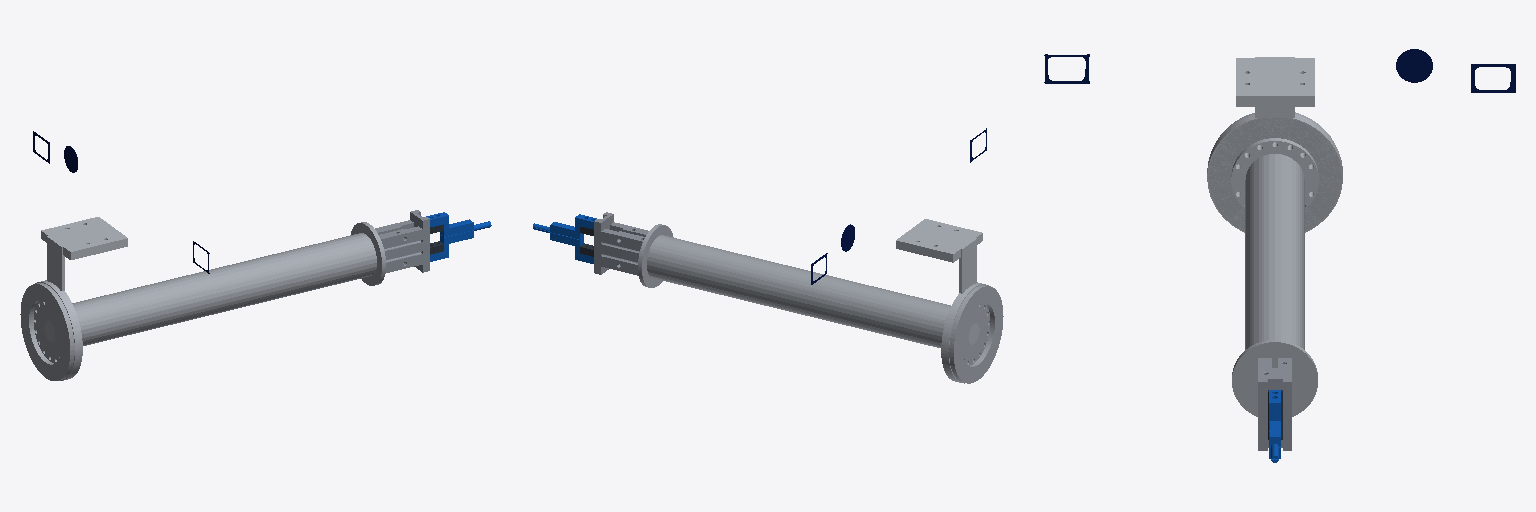
robot.urdf — m20_35_18d:
<?xml version="1.0" ?>
<!-- =================================================================================== -->
<!-- |    This document was autogenerated by xacro from /tmp/m20_35_18d.xacro          | -->
<!-- |    EDITING THIS FILE BY HAND IS NOT RECOMMENDED                                 | -->
<!-- =================================================================================== -->
<robot name="m20_35_18d">
  <link name="world"/>
  <link name="ee_link"/>
  <!-- links -->
  <link name="base_link">
    <visual>
      <origin rpy="0 0 0" xyz="0 0 0"/>
      <geometry>
        <mesh filename="../meshes/visual/base.dae"/>
      </geometry>
    </visual>
    <collision>
      <origin rpy="0 0 0" xyz="0 0 0"/>
      <geometry>
        <mesh filename="../meshes/collision/base.stl"/>
      </geometry>
    </collision>
    <inertial>
      <mass value=" 45.6"/>
      <origin xyz="-.0767  .00288  .109"/>
      <inertia ixx=" .494" ixy=" .0289" ixz=" .0136" iyy=" 1.09" iyz=" .0000534" izz=" 1.15"/>
    </inertial>
  </link>
  <link name="J1_link">
    <visual>
      <origin rpy="0 0 0" xyz="0 0 0"/>
      <geometry>
        <mesh filename="../meshes/visual/j1.dae"/>
      </geometry>
    </visual>
    <collision>
      <origin rpy="0 0 0" xyz="0 0 0"/>
      <geometry>
        <mesh filename="../meshes/collision/j1.stl"/>
      </geometry>
    </collision>
    <inertial>
      <mass value=" 62.5"/>
      <origin xyz=" .0158 -.0106 -.0831"/>
      <inertia ixx=" 1.34" ixy=" .132" ixz="-.0414" iyy=" 1.1" iyz="-.107" izz=" 1.29"/>
    </inertial>
  </link>
  <link name="J2_link">
    <visual>
      <origin rpy="0 0 0" xyz="0 0 0"/>
      <geometry>
        <mesh filename="../meshes/visual/j2.dae"/>
      </geometry>
    </visual>
    <collision>
      <origin rpy="0 0 0" xyz="0 0 0"/>
      <geometry>
        <mesh filename="../meshes/collision/j2.stl"/>
      </geometry>
    </collision>
    <inertial>
      <mass value=" 65.4"/>
      <origin xyz="-.0343 -.172  .38"/>
      <inertia ixx=" 4.83" ixy="-.0804" ixz=" .045" iyy=" 4.96" iyz="-.117" izz=" .533"/>
    </inertial>
  </link>
  <link name="J3_link">
    <visual>
      <origin rpy="0 0 0" xyz="0 0 0"/>
      <geometry>
        <mesh filename="../meshes/visual/j3.dae"/>
      </geometry>
    </visual>
    <collision>
      <origin rpy="0 0 0" xyz="0 0 0"/>
      <geometry>
        <mesh filename="../meshes/collision/j3.stl"/>
      </geometry>
    </collision>
    <inertial>
      <mass value=" 53.9"/>
      <origin xyz=" .135  .0118  .102"/>
      <inertia ixx=" .941" ixy="-.0872" ixz="-.293" iyy=" 1.14" iyz="-.0316" izz=" 1.1"/>
    </inertial>
  </link>
  <link name="J4_link">
    <visual>
      <origin rpy="0 0 0" xyz="0 0 0"/>
      <geometry>
        <mesh filename="../meshes/visual/j4.dae"/>
      </geometry>
    </visual>
    <collision>
      <origin rpy="0 0 0" xyz="0 0 0"/>
      <geometry>
        <mesh filename="../meshes/collision/j4.stl"/>
      </geometry>
    </collision>
    <inertial>
      <mass value=" 20.1"/>
      <origin xyz=" .585 -.0483 -.00034"/>
      <inertia ixx=" .0761" ixy=" .0523" ixz="-.001" iyy=" .645" iyz="-.0000207" izz=" .655"/>
    </inertial>
  </link>
  <link name="J5_link">
    <visual>
      <origin rpy="0 0 0" xyz="0 0 0"/>
      <geometry>
        <mesh filename="../meshes/visual/j5.dae"/>
      </geometry>
    </visual>
    <collision>
      <origin rpy="0 0 0" xyz="0 0 0"/>
      <geometry>
        <mesh filename="../meshes/collision/j5.stl"/>
      </geometry>
    </collision>
    <inertial>
      <mass value=" 1.97"/>
      <origin xyz=" .0276 -.0121  .000000522"/>
      <inertia ixx=" .00392" ixy="-.000781" ixz=" .0000000337" iyy=" .0046" iyz=" .00000000331" izz=" .00408"/>
    </inertial>
  </link>
  <link name="J6_link">
    <visual>
      <origin rpy="0 0 0" xyz="0 0 0"/>
      <geometry>
        <mesh filename="../meshes/visual/j6.dae"/>
      </geometry>
    </visual>
    <collision>
      <origin rpy="0 0 0" xyz="0 0 0"/>
      <geometry>
        <mesh filename="../meshes/collision/j6.stl"/>
      </geometry>
    </collision>
    <inertial>
      <mass value=" .555"/>
      <origin xyz=" .0581 -.000000509  .000000147"/>
      <inertia ixx=" .000582" ixy="-.00000000699" ixz=" .00000000189" iyy=" .000431" iyz=" .0000000226" izz=" .00043"/>
    </inertial>
  </link>
  <!-- Attach to parent -->
  <joint name="base_joint" type="fixed">
    <origin rpy="0 0 0" xyz="0 0 0"/>
    <parent link="world"/>
    <child link="base_link"/>
  </joint>
  <!-- joints -->
  <joint name="J1" type="revolute">
    <origin rpy="0 0 0" xyz=" 0  0  .425"/>
    <parent link="base_link"/>
    <child link="J1_link"/>
    <axis xyz=" 0  0  1"/>
    <limit effort="7000" lower="-2.9670597283903604" upper="2.9670597283903604" velocity="3.141592653589793"/>
  </joint>
  <joint name="J2" type="revolute">
    <origin rpy="0 0 0" xyz=" .075  0  0"/>
    <parent link="J1_link"/>
    <child link="J2_link"/>
    <axis xyz=" 0  1  0"/>
    <limit effort="9000" lower="-1.7453292519943295" upper="2.792526803190927" velocity="3.141592653589793"/>
  </joint>
  <joint name="J3" type="revolute">
    <origin rpy="0 0 0" xyz=" 0  0  .84"/>
    <parent link="J2_link"/>
    <child link="J3_link"/>
    <axis xyz=" 0 -1  0"/>
    <limit effort="4000" lower="-1.5707963267948966" upper="3.839724354387525" velocity="3.490658503988659"/>
  </joint>
  <joint name="J4" type="revolute">
    <origin rpy="0 0 0" xyz=" 0  0  .215"/>
    <parent link="J3_link"/>
    <child link="J4_link"/>
    <axis xyz="-1  0  0"/>
    <limit effort="600" lower="-3.490658503988659" upper="3.490658503988659" velocity="6.1086523819801535"/>
  </joint>
  <joint name="J5" type="revolute">
    <origin rpy="0 0 0" xyz=" .89  0  0"/>
    <parent link="J4_link"/>
    <child link="J5_link"/>
    <axis xyz=" 0 -1  0"/>
    <limit effort="500" lower="-3.141575200297273" upper="3.141575200297273" velocity="6.1086523819801535"/>
  </joint>
  <joint name="J6" type="revolute">
    <origin rpy="0 0 0" xyz=" 0  0  0"/>
    <parent link="J5_link"/>
    <child link="J6_link"/>
    <axis xyz="-1  0  0"/>
    <limit effort="300" lower="-7.853981633974483" upper="7.853981633974483" velocity="6.981317007977318"/>
  </joint>
  <!-- world coords -->
  <link name="wbase"/>
  <joint name="base_link-wbase" type="fixed">
    <origin rpy="0 0 0" xyz=" 0  0  .425"/>
    <parent link="base_link"/>
    <child link="wbase"/>
  </joint>
  <!-- flange coords -->
  <link name="flange"/>
  <joint name="J6-flange" type="fixed">
    <origin rpy="0 0 0" xyz=" .09  0  0"/>
    <parent link="J6_link"/>
    <child link="flange"/>
  </joint>
  <!-- FANUC flange coords -->
  <link name="fanuc_flange"/>
  <joint name="flange-fanuc_flange" type="fixed">
    <origin rpy="3.141592653589793 -1.5707963267948966 0.0" xyz="0 0 0"/>
    <parent link="flange"/>
    <child link="fanuc_flange"/>
  </joint>
  <!-- Attach child -->
  <joint name="child_joint" type="fixed">
    <origin rpy="0 0 0" xyz="0 0 0"/>
    <parent link="flange"/>
    <child link="ee_link"/>
  </joint>

  <!-- Extension 300 mm between the M20 flange (fanuc_flange, z = tool direction) and the MHZL2-20D gripper. Mass and inertia are estimates:
       the volume of the mesh x aluminium 2700 kg/m^3. -->
  <link name="m20_extension_link">
    <inertial>
      <origin xyz="8.34975e-06 -3.72757e-06 0.15258" rpy="0 0 0"/>
      <mass value="0.851067"/>
      <inertia ixx="0.00881662" ixy="3.45436e-07" ixz="-1.00531e-06" iyy="0.00882628" iyz="4.48801e-07" izz="0.000653938"/>
    </inertial>
    <visual>
      <origin xyz="0 0 0" rpy="0 0 0"/>
      <geometry><mesh filename="../meshes/collision/extended_adapter_m20id.stl" scale="0.001 0.001 0.001"/></geometry>
      <material name="extension_steel"><color rgba="0.66 0.68 0.71 1"/></material>
    </visual>
    <collision>
      <origin xyz="0 0 0" rpy="0 0 0"/>
      <geometry><mesh filename="../meshes/collision/extended_adapter_m20id.stl" scale="0.001 0.001 0.001"/></geometry>
    </collision>
  </link>
  <joint name="fanuc_flange_to_extension" type="fixed">
    <parent link="fanuc_flange"/>
    <child link="m20_extension_link"/>
    <origin xyz="0 0 0" rpy="0 0 0"/>
  </joint>
  <!-- MHZL2-20D gripper (assets/grippper/mhzl2_20d): its base_link on the end face of the extension (0.400 m) -->
  <joint name="extension_to_mhzl2" type="fixed">
    <parent link="m20_extension_link"/>
    <child link="mhzl2_base_link"/>
    <origin xyz="0 0 0.400" rpy="0 0 0"/>
  </joint>
  <material name="body_gray">
    <color rgba="0.58 0.60 0.64 1" />
  </material>
  <material name="jaw_steel">
    <color rgba="0.22 0.25 0.29 1" />
  </material>
  <material name="finger_blue">
    <color rgba="0.10 0.40 0.75 1" />
  </material>
  <link name="mhzl2_base_link">
    <inertial>
      <origin xyz="2.89671410659e-05 -5.4270840864e-06 0.0349663498318" rpy="0 0 0" />
      <mass value="0.220682701839" />
      <inertia ixx="9.94186732479e-05" iyy="0.000121817669286" izz="5.25931759376e-05" ixy="1.0384273215e-07" ixz="-1.26770280594e-07" iyz="-6.88108477766e-09" />
    </inertial>
    <visual>
      <origin xyz="0 0 0" rpy="0 0 0" />
      <geometry>
        <mesh filename="../../../grippper/mhzl2_20d/meshes/body.stl" scale="1 1 1" />
      </geometry>
      <material name="body_gray" />
    </visual>
    <collision>
      <origin xyz="0 0 0" rpy="0 0 0" />
      <geometry>
        <mesh filename="../../../grippper/mhzl2_20d/meshes/body.stl" scale="1 1 1" />
      </geometry>
    </collision>
  </link>
  <link name="mhzl2_left_jaw_link">
    <inertial>
      <origin xyz="0.000678573706839 4.36690990065e-14 -0.0173863154899" rpy="0 0 0" />
      <mass value="0.0246586490805" />
      <inertia ixx="1.85754703073e-06" iyy="2.18841962239e-06" izz="8.28895609536e-07" ixy="3.52001383044e-17" ixz="1.11213029842e-07" iyz="2.3442984885e-18" />
    </inertial>
    <visual>
      <origin xyz="0 0 0" rpy="0 0 0" />
      <geometry>
        <mesh filename="../../../grippper/mhzl2_20d/meshes/jaw_left.stl" scale="1 1 1" />
      </geometry>
      <material name="jaw_steel" />
    </visual>
    <collision>
      <origin xyz="0 0 0" rpy="0 0 0" />
      <geometry>
        <mesh filename="../../../grippper/mhzl2_20d/meshes/jaw_left.stl" scale="1 1 1" />
      </geometry>
    </collision>
  </link>
  <link name="mhzl2_left_fingertip_link">
    <inertial>
      <origin xyz="0.00205699269931 1.12872986514e-09 0.0123896917199" rpy="0 0 0" />
      <mass value="0.0162883181265" />
      <inertia ixx="5.33803292834e-06" iyy="6.23509452408e-06" izz="1.15197360513e-06" ixy="-1.5233053529e-13" ixz="-1.72149090423e-06" iyz="-7.74891521698e-13" />
    </inertial>
    <visual>
      <origin xyz="0 0 0" rpy="0 0 0" />
      <geometry>
        <mesh filename="../../../grippper/mhzl2_20d/meshes/fingertip_left.stl" scale="1 1 1" />
      </geometry>
      <material name="finger_blue" />
    </visual>
    <collision>
      <origin xyz="0 0 0" rpy="0 0 0" />
      <geometry>
        <mesh filename="../../../grippper/mhzl2_20d/meshes/fingertip_left.stl" scale="1 1 1" />
      </geometry>
    </collision>
  </link>
  <link name="mhzl2_right_jaw_link">
    <inertial>
      <origin xyz="-0.000678573706839 -4.36690990065e-14 -0.0173863154899" rpy="0 0 0" />
      <mass value="0.0246586490805" />
      <inertia ixx="1.85754703073e-06" iyy="2.18841962239e-06" izz="8.28895609536e-07" ixy="3.52001383044e-17" ixz="-1.11213029842e-07" iyz="-2.3442984885e-18" />
    </inertial>
    <visual>
      <origin xyz="0 0 0" rpy="0 0 0" />
      <geometry>
        <mesh filename="../../../grippper/mhzl2_20d/meshes/jaw_right.stl" scale="1 1 1" />
      </geometry>
      <material name="jaw_steel" />
    </visual>
    <collision>
      <origin xyz="0 0 0" rpy="0 0 0" />
      <geometry>
        <mesh filename="../../../grippper/mhzl2_20d/meshes/jaw_right.stl" scale="1 1 1" />
      </geometry>
    </collision>
  </link>
  <link name="mhzl2_right_fingertip_link">
    <inertial>
      <origin xyz="-0.00205699269931 1.12872986523e-09 0.0123896917199" rpy="0 0 0" />
      <mass value="0.0162883181265" />
      <inertia ixx="5.33803292834e-06" iyy="6.23509452408e-06" izz="1.15197360513e-06" ixy="1.52330535281e-13" ixz="1.72149090423e-06" iyz="-7.74891521661e-13" />
    </inertial>
    <visual>
      <origin xyz="0 0 0" rpy="0 0 0" />
      <geometry>
        <mesh filename="../../../grippper/mhzl2_20d/meshes/fingertip_right.stl" scale="1 1 1" />
      </geometry>
      <material name="finger_blue" />
    </visual>
    <collision>
      <origin xyz="0 0 0" rpy="0 0 0" />
      <geometry>
        <mesh filename="../../../grippper/mhzl2_20d/meshes/fingertip_right.stl" scale="1 1 1" />
      </geometry>
    </collision>
  </link>
  <joint name="mhzl2_left_joint" type="prismatic">
    <parent link="mhzl2_base_link" />
    <child link="mhzl2_left_jaw_link" />
    <origin xyz="-0.01215 0 0.09" rpy="0 0 0" />
    <axis xyz="-1 0 0" />
    <limit lower="0" upper="0.009" effort="10" velocity="0.05" />
  </joint>
  <joint name="mhzl2_left_fingertip_fixed" type="fixed">
    <parent link="mhzl2_left_jaw_link" />
    <child link="mhzl2_left_fingertip_link" />
    <origin xyz="0 0 0" rpy="0 0 0" />
  </joint>
  <joint name="mhzl2_right_joint" type="prismatic">
    <parent link="mhzl2_base_link" />
    <child link="mhzl2_right_jaw_link" />
    <origin xyz="0.01215 0 0.09" rpy="0 0 0" />
    <axis xyz="1 0 0" />
    <limit lower="0" upper="0.009" effort="10" velocity="0.05" />
    <mimic joint="mhzl2_left_joint" multiplier="1" offset="0" />
  </joint>
  <joint name="mhzl2_right_fingertip_fixed" type="fixed">
    <parent link="mhzl2_right_jaw_link" />
    <child link="mhzl2_right_fingertip_link" />
    <origin xyz="0 0 0" rpy="0 0 0" />
  </joint>
  <link name="mhzl2_tcp" />
  <joint name="mhzl2_tcp_fixed" type="fixed">
    <parent link="mhzl2_base_link" />
    <child link="mhzl2_tcp" />
    <origin xyz="0 0 0.15" rpy="0 0 0" />
  </joint>
  <!-- PhoXi 3D Scanner M Gen3 on its arm (camera bracket flange_m20id_arm.stl) at the J6 flange, on the OUTER side of the wrist (J6_link: x = tool direction,
       +z = side away from the forearm when the tool points down). Both meshes are in meshes/collision/ (mm).
       Bracket: z = tool direction; its plate lies on the flange face (bracket z -5.5 mm at J6_link x 0.09), the pad (bracket x 96..106, z 0..74) points to
       J6_link +z. Scanner: its mount side face (mesh y 0, 4 x M4 at x +-22.5 / z 0 and -22) is screwed on the outer face of the pad (bracket x 106, holes
       y +-22.5 / z 29.5 and 51.5); the window face (mesh +z) looks along the tool, the long axis lies along J6_link y.
       Link frame = the scanner mesh; the bracket is in it at xyz (0 0.106 -0.0515), rpy (0 0 -90 deg). Mass is an estimate (3 kg).
       Collision = boxes for the scanner (its STL has 420k triangles: housing, boss) + the bracket mesh. -->
  <link name="phoxi_scanner">
    <visual>
      <origin xyz="0 0 0" rpy="0 0 0"/>
      <geometry>
        <mesh filename="../meshes/collision/PhoXi_3D_Scanner-M-Gen3-body.stl" scale="0.001 0.001 0.001"/>
      </geometry>
      <material name="phoxi_body">
        <color rgba="0.025 0.027 0.03 1"/>
      </material>
    </visual>
    <visual>
      <origin xyz="0 0 0" rpy="0 0 0"/>
      <geometry>
        <mesh filename="../meshes/collision/PhoXi_3D_Scanner-M-Gen3-lens.stl" scale="0.001 0.001 0.001"/>
      </geometry>
      <material name="phoxi_lens">
        <color rgba="0.05 0.12 0.34 1"/>
      </material>
    </visual>
    <visual>
      <origin xyz="0 0.106 -0.0515" rpy="0 0 -1.5707963267948966"/>
      <geometry>
        <mesh filename="../meshes/collision/flange_m20id_arm.stl" scale="0.001 0.001 0.001"/>
      </geometry>
      <material name="phoxi_bracket">
        <color rgba="0.70 0.72 0.75 1"/>
      </material>
    </visual>
    <collision>
      <origin xyz="0 -0.03395 0.00985" rpy="0 0 0"/>
      <geometry>
        <box size="0.4388 0.0679 0.0613"/>
      </geometry>
    </collision>
    <collision>
      <origin xyz="0 -0.03395 -0.03265" rpy="0 0 0"/>
      <geometry>
        <box size="0.084 0.0679 0.0237"/>
      </geometry>
    </collision>
    <collision>
      <origin xyz="0 0.106 -0.0515" rpy="0 0 -1.5707963267948966"/>
      <geometry>
        <mesh filename="../meshes/collision/flange_m20id_arm.stl" scale="0.001 0.001 0.001"/>
      </geometry>
    </collision>
    <inertial>
      <origin xyz="0 -0.03395 0.00985" rpy="0 0 0"/>
      <mass value="3.0"/>
      <inertia ixx="0.002092" ixy="0" ixz="0" iyy="0.049080" iyz="0" izz="0.049290"/>
    </inertial>
  </link>
  <joint name="J6_to_phoxi_scanner" type="fixed">
    <parent link="J6_link"/>
    <child link="phoxi_scanner"/>
    <origin xyz="0.147 0 0.106" rpy="-1.5707963267948966 0 -1.5707963267948966"/>
  </joint>
  <!-- Colour camera of the scanner: the round lens glass (mesh x -113.1, y -32.6, z 35.0 mm), as an OpenCV optical frame (x right, y down, z forward = the tool
       direction, flange +x): image right = flange -y, image down = flange -z (with the tool pointing down the robot base is at the bottom of the image, as seen
       from behind the camera). Used by the wrist camera of robot_sim.py (wrist_camera: in the robot yaml). -->
  <link name="phoxi_camera"/>
  <joint name="J6_to_phoxi_camera" type="fixed">
    <parent link="J6_link"/>
    <child link="phoxi_camera"/>
    <origin xyz="0.182 0.1131 0.1386" rpy="-1.5707963267948966 0 -1.5707963267948966"/>
  </joint>
</robot>

--- Render facts (derived) ---
3 views of the same robot in one strip: view 1: azimuth 30°, elevation 25°; view 2: azimuth 150°, elevation 25°; view 3: azimuth 270°, elevation 25° (orthographic).
Model m20_35_18d with 21 links and 20 joints (6 revolute, 2 prismatic, 12 fixed), rooted at world, posed all joints at 0.
Links seen in each view (by area): view 1: m20_extension_link, phoxi_scanner, mhzl2_base_link, mhzl2_right_fingertip_link; view 2: m20_extension_link, phoxi_scanner, mhzl2_base_link, mhzl2_right_fingertip_link; view 3: m20_extension_link, phoxi_scanner, mhzl2_base_link, mhzl2_right_fingertip_link.
Link boxes in pixels (bbox=[...]): m20_extension_link: bbox=[20, 222, 385, 380]; phoxi_scanner: bbox=[33, 131, 209, 380]; mhzl2_base_link: bbox=[375, 210, 429, 273]; mhzl2_right_fingertip_link: bbox=[426, 212, 490, 236]; m20_extension_link: bbox=[638, 224, 1003, 383]; phoxi_scanner: bbox=[811, 128, 988, 383]; mhzl2_base_link: bbox=[594, 212, 648, 275]; mhzl2_right_fingertip_link: bbox=[533, 214, 596, 239]; m20_extension_link: bbox=[1208, 112, 1341, 416]; phoxi_scanner: bbox=[1044, 49, 1515, 232]; mhzl2_base_link: bbox=[1258, 358, 1291, 450]; mhzl2_right_fingertip_link: bbox=[1269, 390, 1280, 458].
Bounding box of the posed robot: 0.5555 × 0.382 × 0.2086 m (x, y, z).
Meshes: 16 distinct files referenced, 8 mesh visuals loaded (8 binary STL); not drawn: 8 (reference not matched to a file when rendering).
